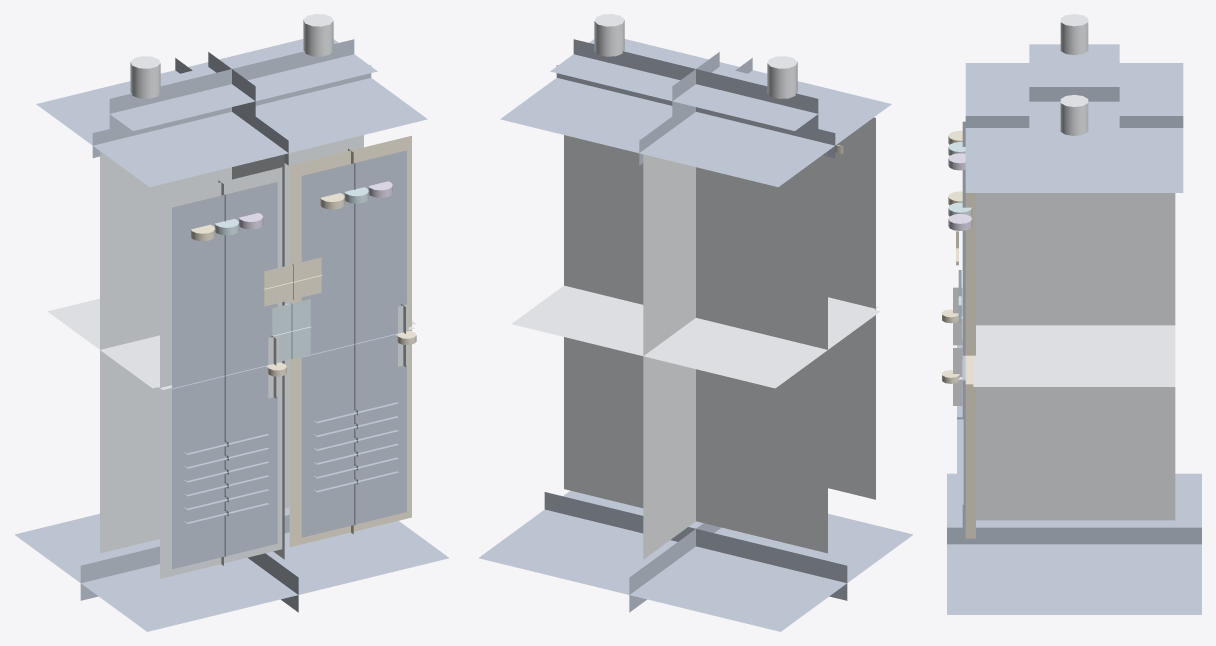
File: cabinet.gltf
3 views of the same model, side by side, from view 1: azimuth 30°, elevation 25°; view 2: azimuth 150°, elevation 25°; view 3: azimuth 270°, elevation 25° (orthographic). The views are drawn at different scales.
Parts seen in each view (by area): view 1: cabinet; view 2: cabinet; view 3: cabinet.
Boxes of the visible parts, x1=… form: cabinet: x1=14, y1=14, x2=449, y2=631; cabinet: x1=478, y1=14, x2=913, y2=631; cabinet: x1=942, y1=14, x2=1201, y2=614.
Bounding box in the file's own units: 1.26 × 2.08 × 0.9783.
